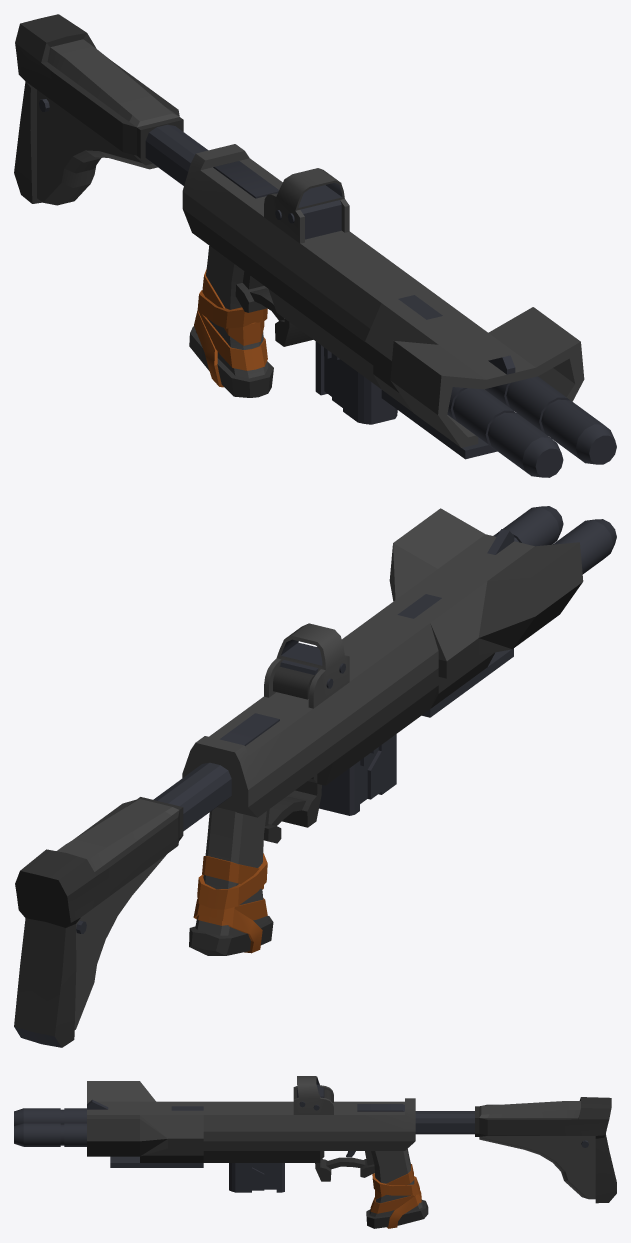
The model's file is shotgun4.fbx.
3 views of the same model, one above another, from view 1: azimuth 30°, elevation 25°; view 2: azimuth 150°, elevation 25°; view 3: azimuth 270°, elevation 25° (orthographic). The views are drawn at different scales.
Parts seen in each view (by area): view 1: mergedBlocks; view 2: mergedBlocks; view 3: mergedBlocks.
Part boxes in pixels (<box>): mergedBlocks: <box>14,14,616,477</box>; mergedBlocks: <box>14,506,616,1047</box>; mergedBlocks: <box>14,1076,616,1228</box>.
Size of the model in its own units: 8.86 by 15.27 by 56.88.
